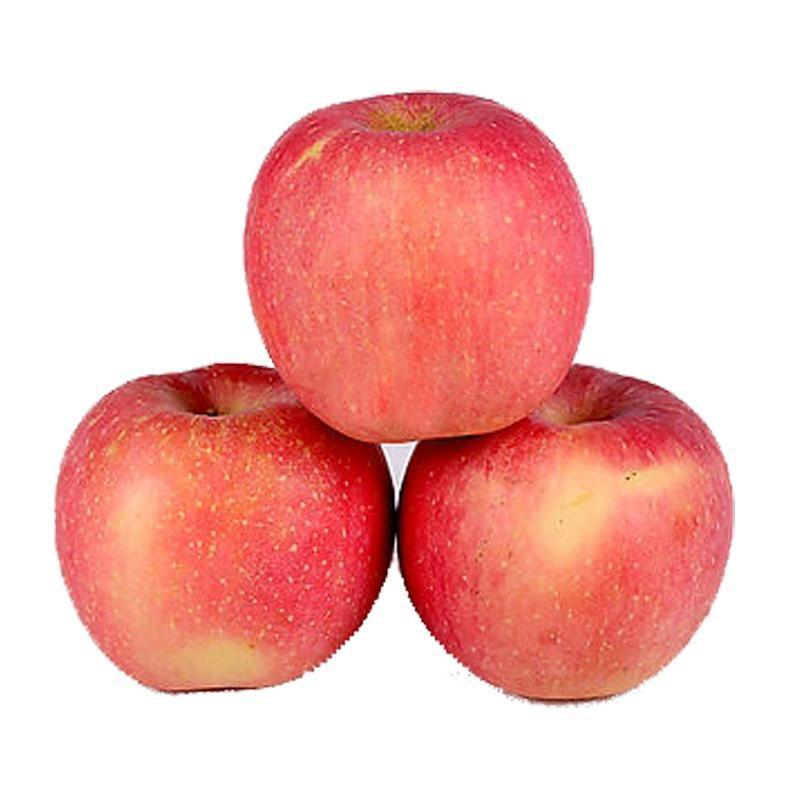apple: (241, 93, 594, 451), (408, 367, 735, 715), (54, 372, 391, 702)
